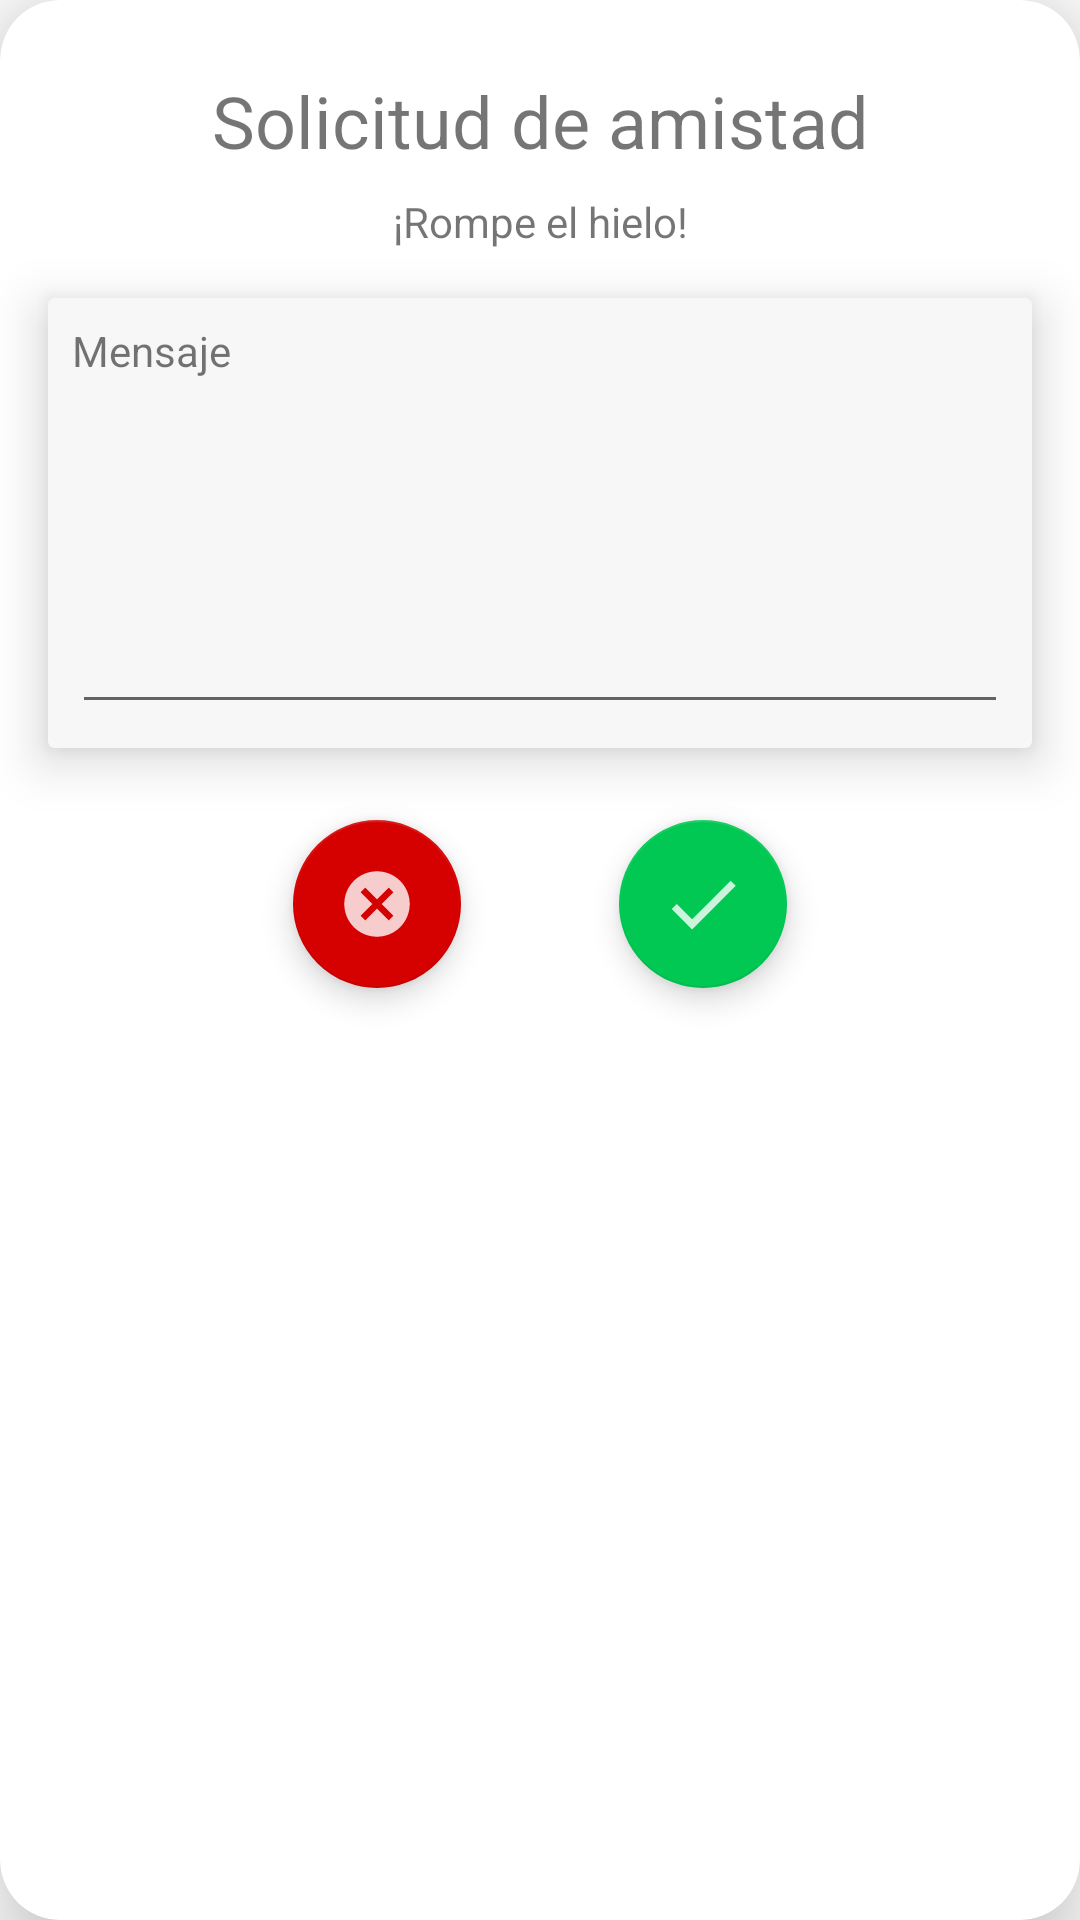

Icon bounding boxes for this 1080w x 1920h phone screenshot, format rect(x1, y1, x2, y2):
cancel: rect(293, 820, 461, 988)
